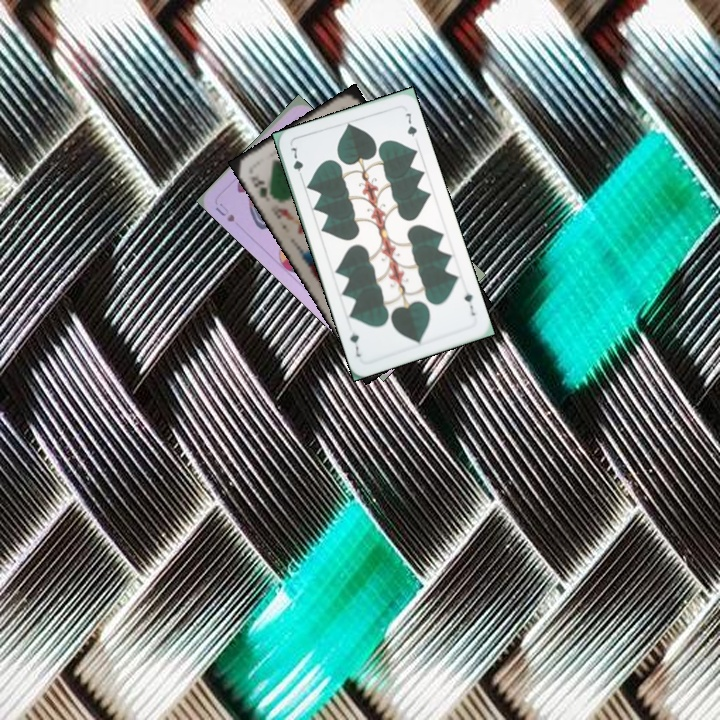G7: (287, 143, 306, 182), (460, 288, 478, 318)
GK: (247, 171, 276, 204)
SU: (211, 199, 240, 226)
